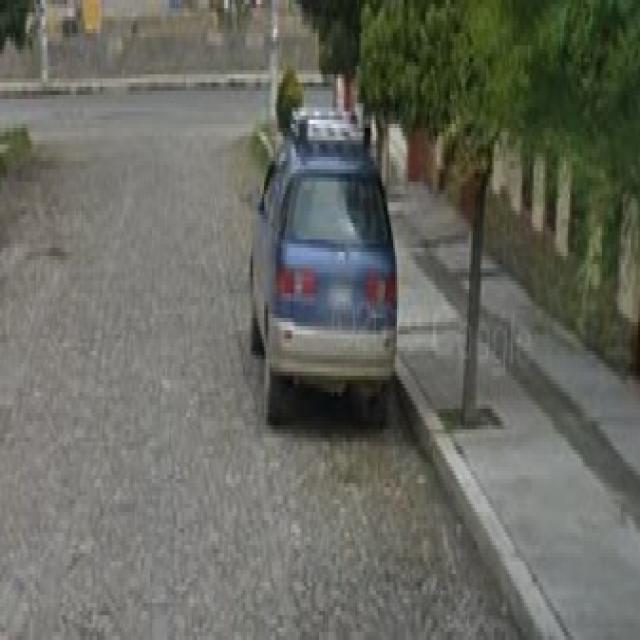cars: (254, 120, 404, 411)
